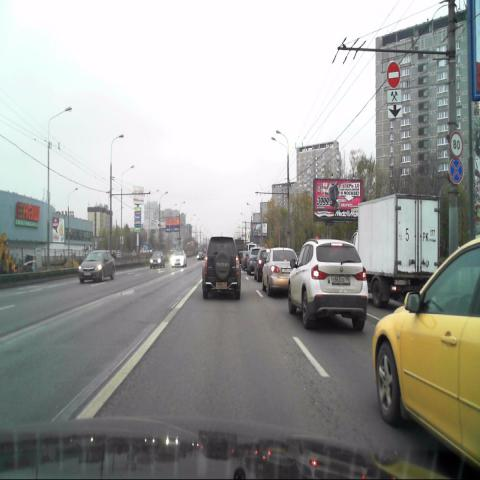3_1: (386, 62, 400, 87)
8_5_2: (386, 90, 403, 104)
